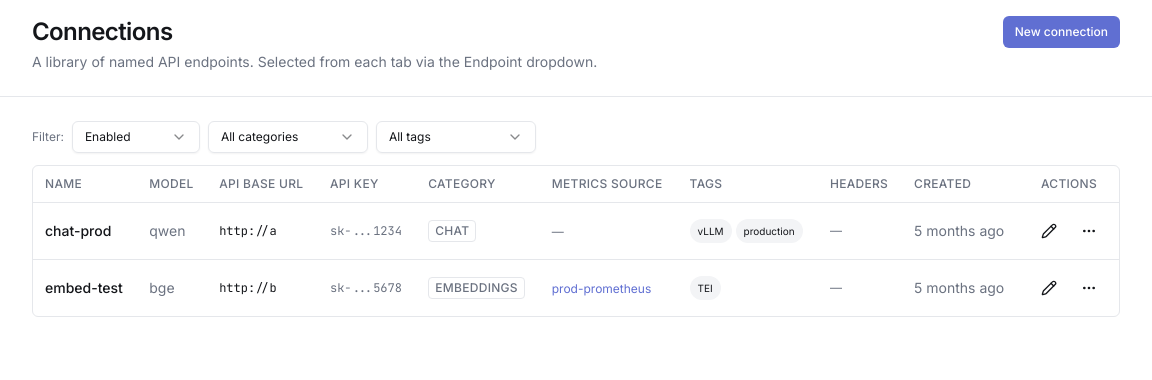
Test: ConnectionsPage (category + tags) › filtering by category hides non-matching rows
The image size is (1152, 380).
Step 1. Click the dropdown labelled "All categories" → [288, 137], box x1=208 y1=121 x2=368 y2=153
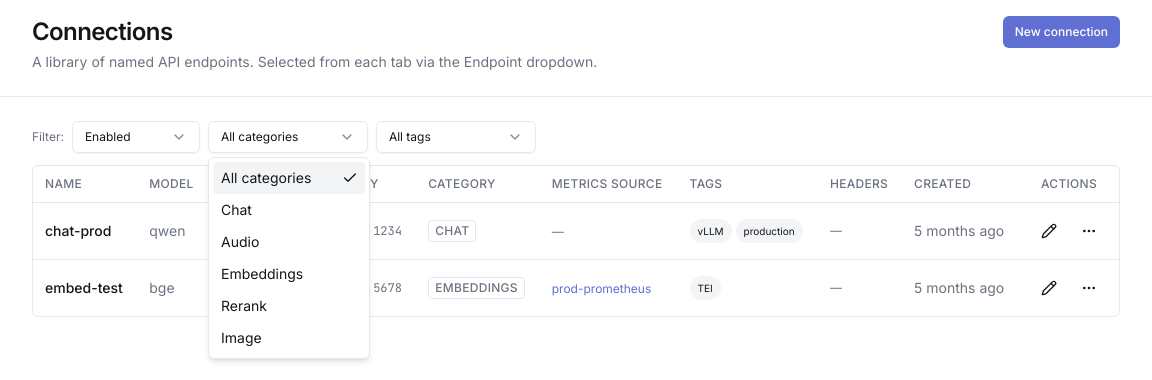
Step 2. Click the option "Chat" → [236, 210], box x1=221 y1=201 x2=252 y2=218
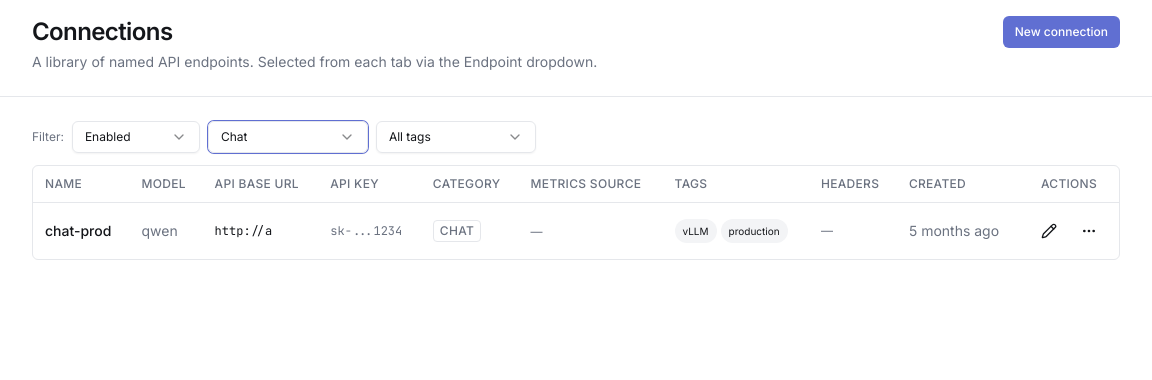
Check: the button "chat-prod" is shown, box x1=45 y1=220 x2=111 y2=240
Check: the button "embed-test" is gone
